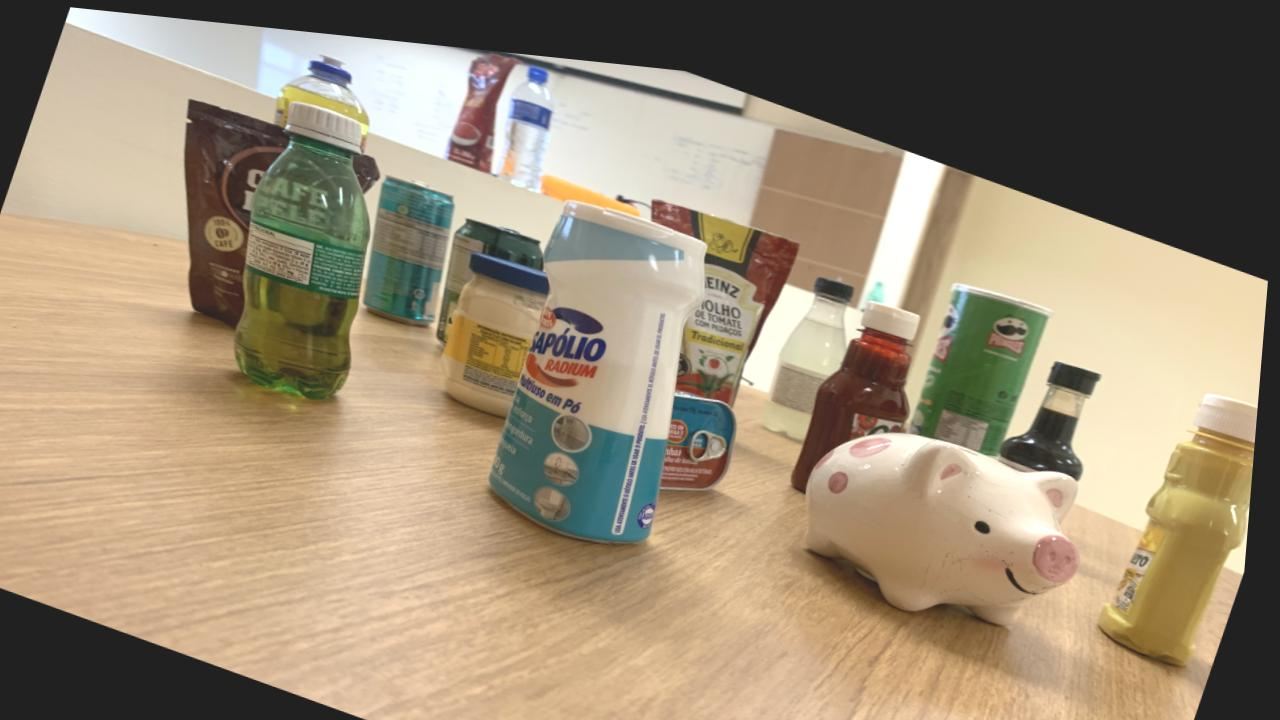Cleaner-Cleanup_Items: (496, 191, 709, 529)
Coffee-Pantry_Items: (185, 95, 291, 320), (354, 147, 383, 183)
Detergent-Cleanup_Items: (275, 48, 371, 135)
English_Sauce-Pantry_Items: (1004, 338, 1105, 456)
Guarana-Drinks: (239, 96, 374, 392)
Guarana_Can-Drinks: (441, 208, 547, 332)
Ketchup-Pantry_Items: (797, 282, 923, 473)
Mayonnaise-Pantry_Items: (446, 242, 554, 406)
Mustard-Pantry_Items: (1107, 367, 1262, 639)
Pig_Safe-Miscellaneous: (812, 413, 1088, 603)
Pringles-Snacks: (914, 262, 1056, 433)
Soda-Drinks: (768, 259, 857, 422)
Tea-Drinks: (367, 168, 458, 317)
Tomato_Sauce-Pantry_Items: (653, 186, 802, 389), (448, 43, 519, 162)
Tuna_Can-Pantry_Items: (667, 375, 743, 475)
Water_Bottle-Drinks: (500, 55, 555, 179)
